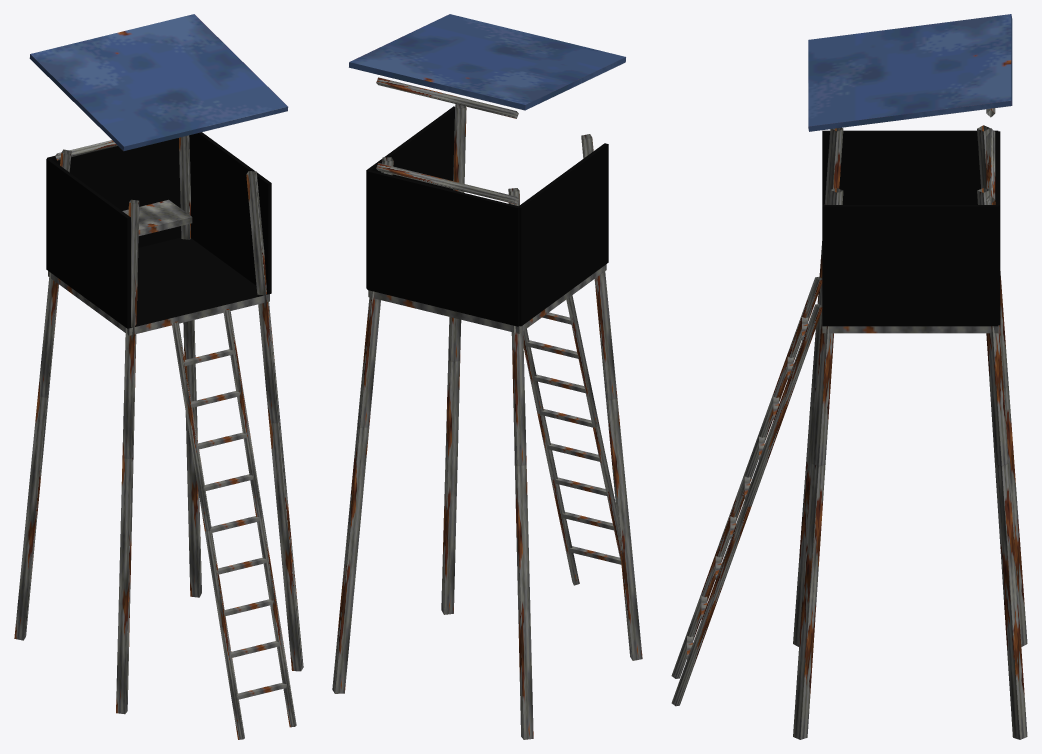
Rendered from SM_deer_stand.fbx.
The picture shows the model from 3 angles, left to right: view 1: azimuth 30°, elevation 25°; view 2: azimuth 150°, elevation 25°; view 3: azimuth 270°, elevation 25°; orthographic projection. The views are drawn at different scales.
Visible parts, largest first — view 1: deer_stand; view 2: deer_stand; view 3: deer_stand.
Part boxes in pixels (<box>): deer_stand: <box>14,14,303,739</box>; deer_stand: <box>332,14,642,739</box>; deer_stand: <box>671,14,1027,739</box>.
Size of the model in its own units: 1.6 by 4.78 by 2.43.
